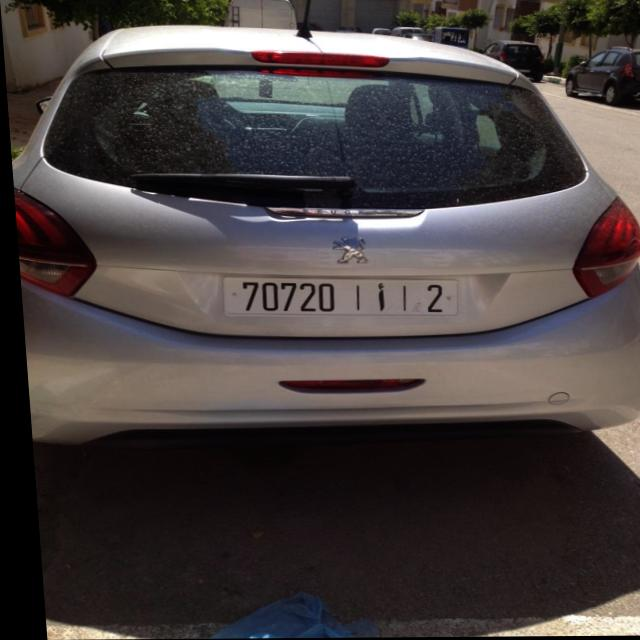License-Plate: (218, 278, 455, 316)
